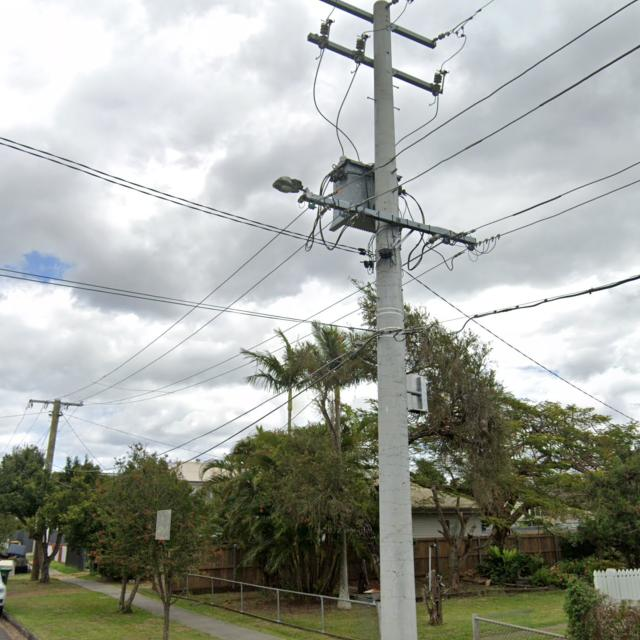HV-transmission: (307, 0, 474, 96)
concrete-pole: (371, 1, 419, 640)
crossarm: (300, 191, 478, 250), (307, 33, 444, 94), (320, 0, 435, 49), (27, 396, 86, 411)
streetlight: (273, 174, 308, 197)
timber-pole: (33, 399, 62, 585)
transformer: (326, 155, 380, 230)
